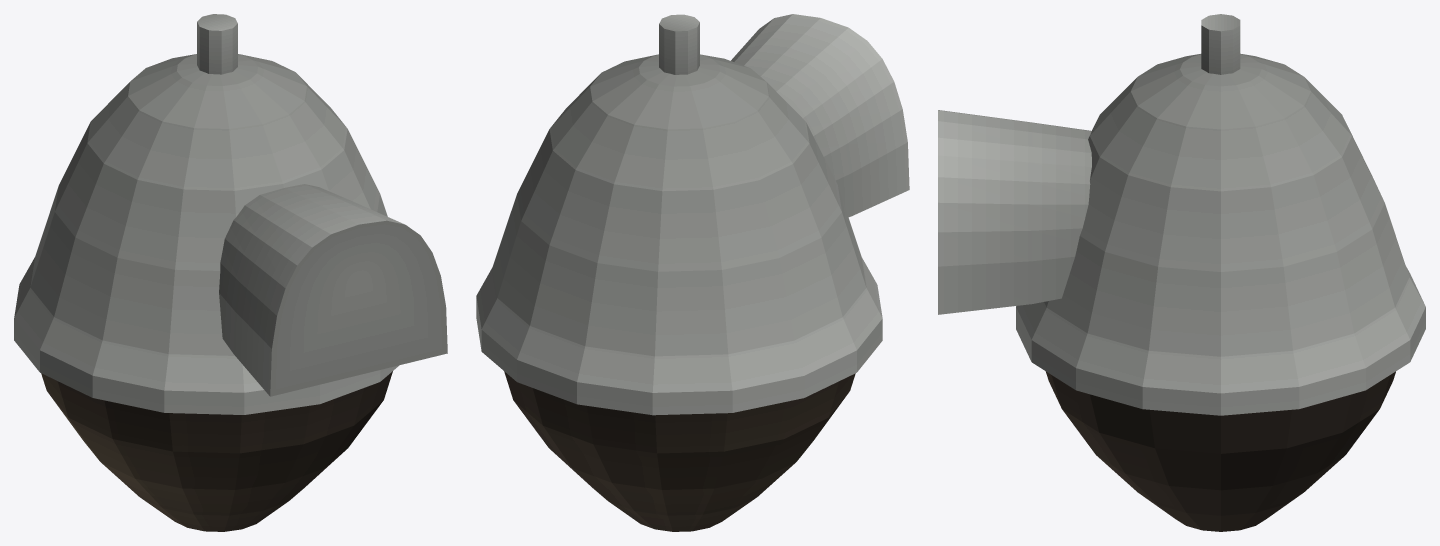
File: streetlight_geform109td.obj
3 views of the same model, side by side, from view 1: azimuth 30°, elevation 25°; view 2: azimuth 150°, elevation 25°; view 3: azimuth 270°, elevation 25° (orthographic).
Parts seen in each view (by area): view 1: fixture; view 2: fixture; view 3: fixture.
Part boxes in pixels (box(x1,y1,x2,y2)): fixture: box(14, 14, 447, 531); fixture: box(476, 14, 909, 531); fixture: box(938, 14, 1425, 531).
Bounding box in the file's own units: 0.625 × 0.8562 × 0.7437.
